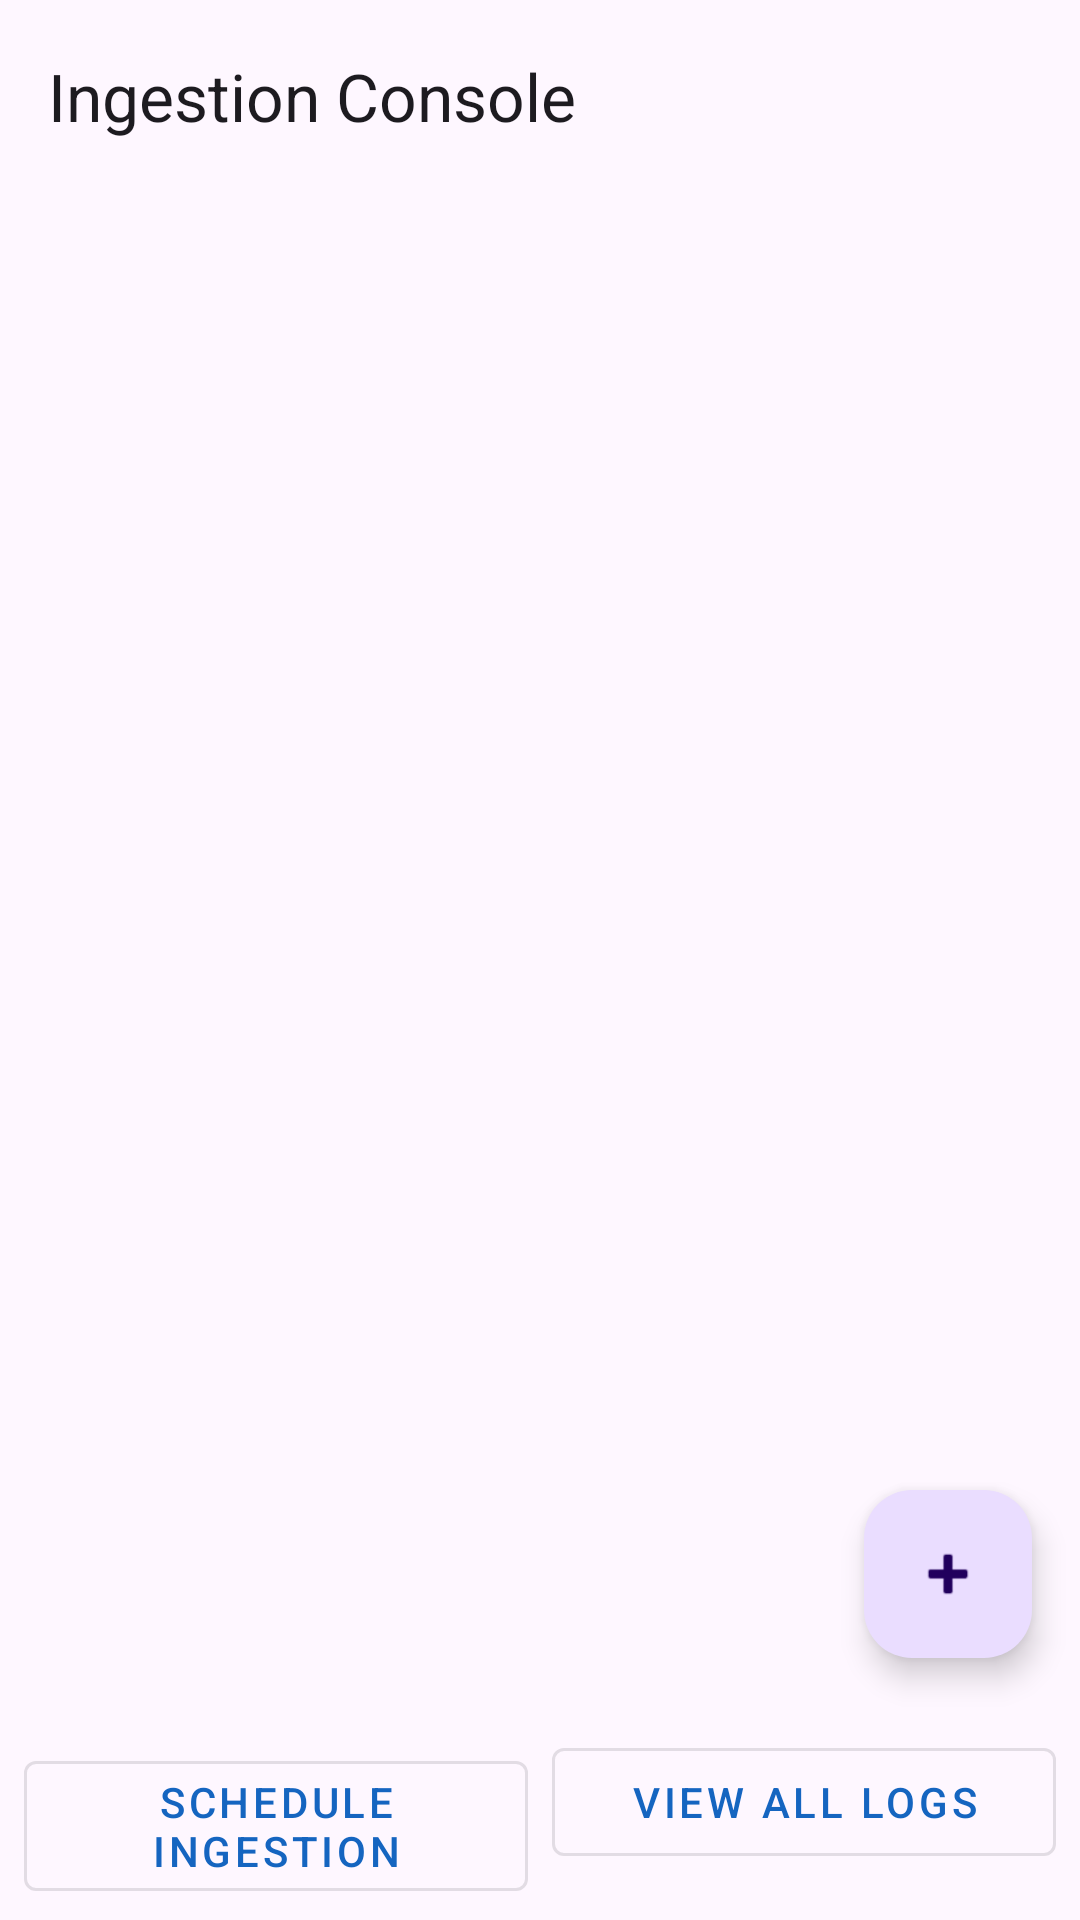

Icons on this 1080x1920 Android screen, each with its box as Rect(x1, y1, x2, y2):
Add Source: Rect(864, 1490, 1032, 1658)
